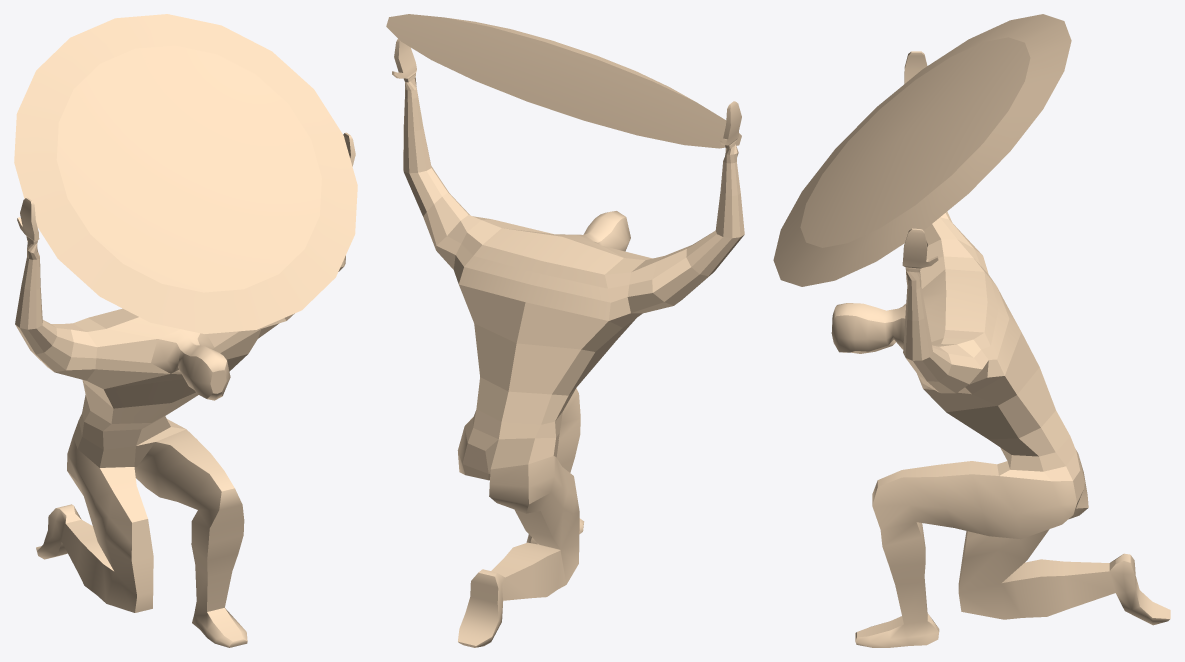
Rendered from warrior_statue.fbx.
3 renders of one model, left to right at view 1: azimuth 30°, elevation 25°; view 2: azimuth 150°, elevation 25°; view 3: azimuth 270°, elevation 25°, orthographic. The views are drawn at different scales.
Visible parts, largest first — view 1: pCylinder3, pCube13; view 2: pCube13, pCylinder3; view 3: pCube13, pCylinder3.
Part boxes in pixels (box(x1,y1,x2,y2)): pCylinder3: box(14, 14, 357, 333); pCube13: box(15, 132, 355, 647); pCube13: box(392, 39, 744, 647); pCylinder3: box(386, 14, 741, 148); pCube13: box(831, 51, 1170, 647); pCylinder3: box(773, 14, 1071, 286).
Size of the model in its own units: 7.21 by 11.64 by 7.07.
